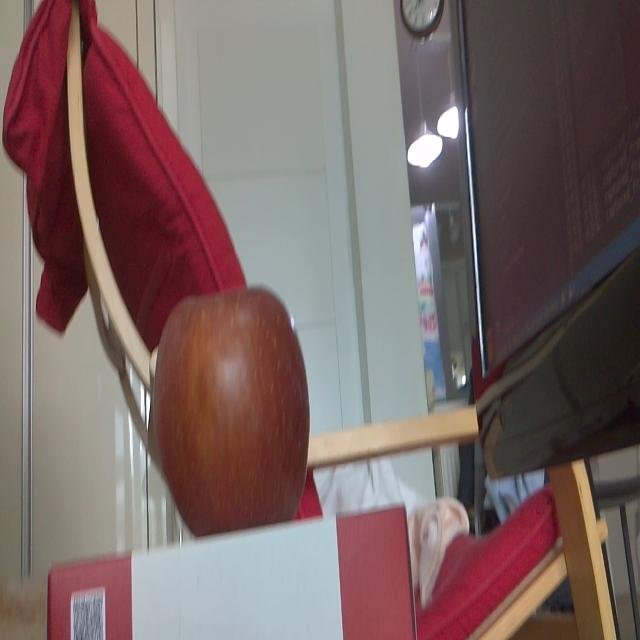apple: (152, 288, 309, 534)
